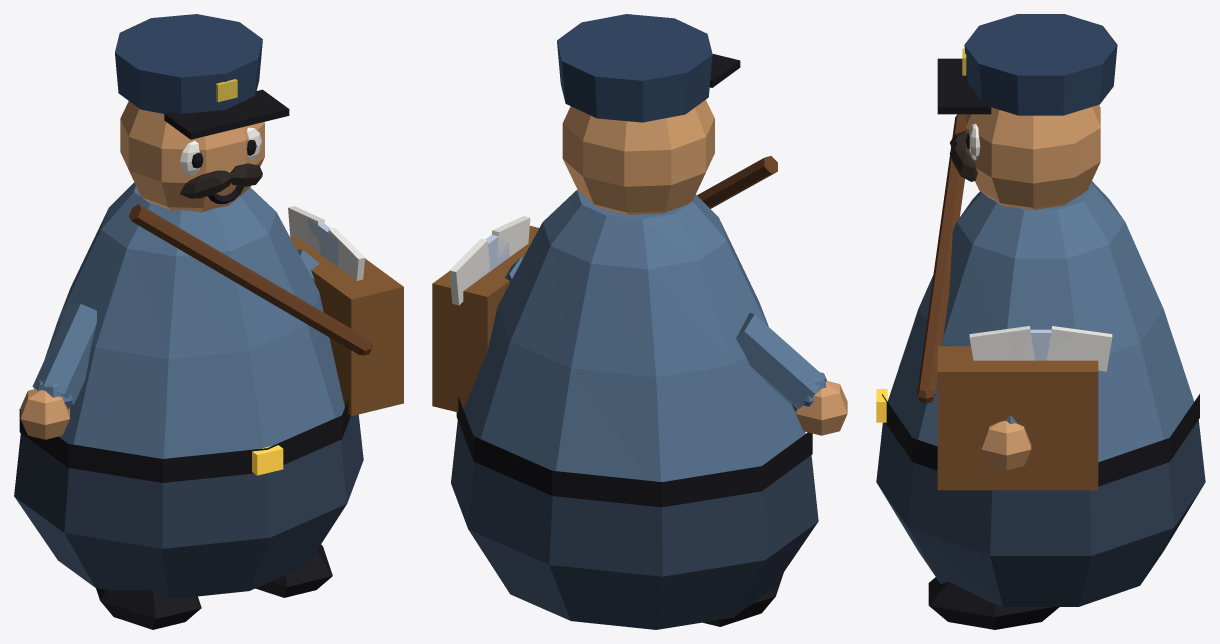
Rendered from npc_cartero.glb.
3 views of the same model, side by side, from view 1: azimuth 30°, elevation 25°; view 2: azimuth 150°, elevation 25°; view 3: azimuth 270°, elevation 25° (orthographic). The views are drawn at different scales.
Visible parts, largest first — view 1: body_mail_uniform, body_mail_pants, cap_mail_cap, props_mail_bag, head_skin_arena, body_black, props_mail_strap, legs_black, arms_mail_uniform, cap_black, arms_skin_arena, props_white (+5 smaller); view 2: body_mail_uniform, body_mail_pants, cap_mail_cap, head_skin_arena, body_black, props_mail_bag, arms_mail_uniform, props_white, arms_skin_arena, props_mail_strap, legs_black, cap_black (+1 smaller); view 3: body_mail_uniform, body_mail_pants, props_mail_bag, cap_mail_cap, head_skin_arena, props_mail_strap, props_white, body_black, legs_black, cap_black, arms_skin_arena, face_hair_black (+1 smaller).
Boxes of the visible parts, x1,y1,x2,y2 form: body_mail_uniform: (44, 182, 344, 458); body_mail_pants: (14, 414, 363, 598); cap_mail_cap: (115, 14, 262, 113); props_mail_bag: (290, 236, 403, 416); head_skin_arena: (120, 101, 264, 212); body_black: (19, 399, 350, 482); props_mail_strap: (128, 204, 371, 355); legs_black: (96, 544, 332, 629); arms_mail_uniform: (32, 249, 319, 409); cap_black: (164, 89, 289, 139); arms_skin_arena: (20, 389, 69, 439); props_white: (288, 206, 364, 280); body_mail_uniform: (463, 189, 805, 481); body_mail_pants: (451, 420, 818, 629); cap_mail_cap: (557, 14, 712, 122); head_skin_arena: (562, 100, 714, 214); body_black: (456, 396, 812, 507); props_mail_bag: (432, 226, 538, 412); arms_mail_uniform: (505, 257, 826, 410); props_white: (449, 216, 530, 305); arms_skin_arena: (795, 381, 847, 435); props_mail_strap: (697, 156, 777, 208); legs_black: (703, 572, 783, 626); cap_black: (709, 54, 740, 87); body_mail_uniform: (887, 181, 1194, 462); body_mail_pants: (876, 420, 1205, 606); props_mail_bag: (937, 346, 1098, 490); cap_mail_cap: (964, 14, 1117, 115); head_skin_arena: (966, 105, 1100, 209); props_mail_strap: (917, 114, 965, 403); props_white: (969, 326, 1112, 371); body_black: (882, 394, 1199, 486); legs_black: (928, 577, 1059, 629); cap_black: (937, 58, 991, 114); arms_skin_arena: (981, 420, 1031, 470); face_hair_black: (949, 130, 977, 181).
Size of the model in its own units: 1.13 by 1.57 by 0.86.
